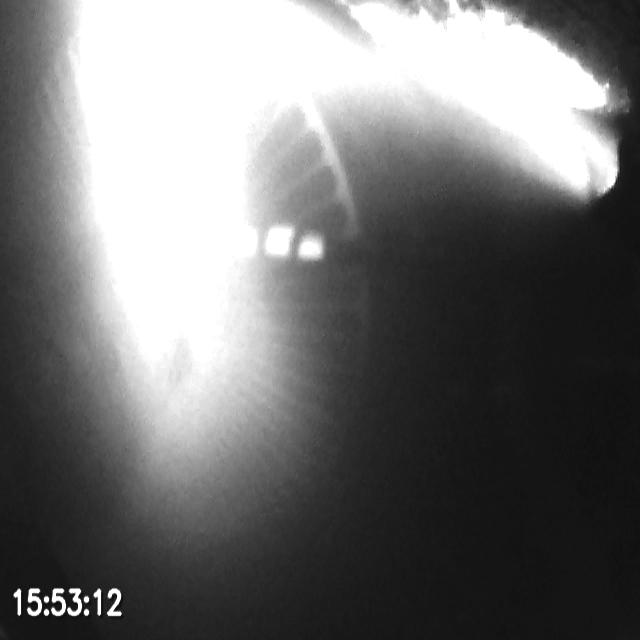white-dots: (230, 222, 328, 265)
